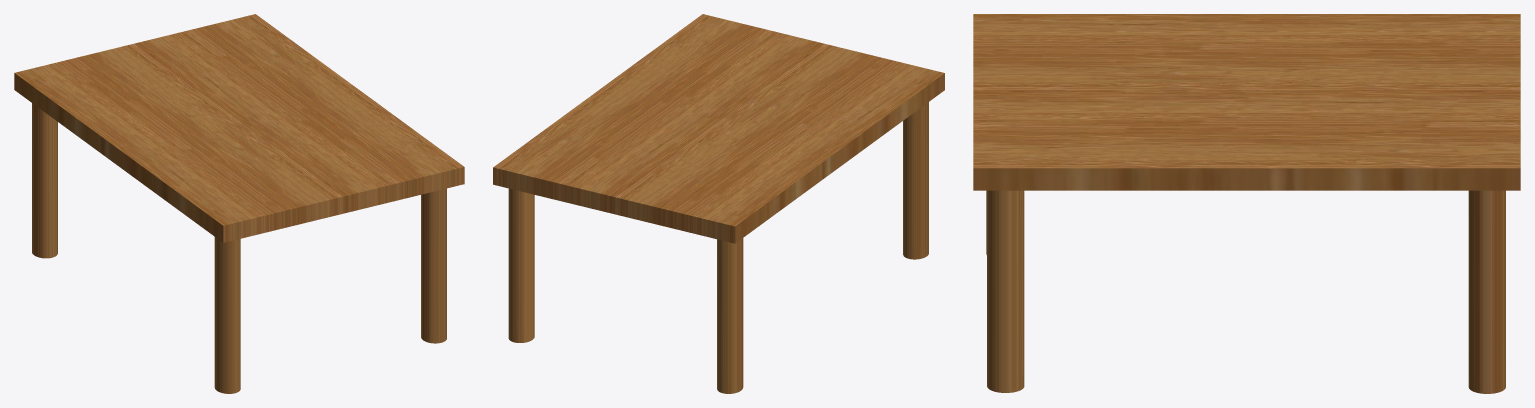
File: wood table.dae
The picture shows the model from 3 angles, left to right: view 1: azimuth 30°, elevation 25°; view 2: azimuth 150°, elevation 25°; view 3: azimuth 270°, elevation 25°; orthographic projection. The views are drawn at different scales.
Visible parts, largest first — view 1: Cylinder_001; view 2: Cylinder_001; view 3: Cylinder_001.
Part boxes in pixels (x1,y1,x2,y2): Cylinder_001: (14,14,464,393); Cylinder_001: (493,14,944,393); Cylinder_001: (973,14,1520,393).
Size of the model in its own units: 0.9493 by 1.42 by 0.6591.
Materials: 1 (1 with a texture image).
